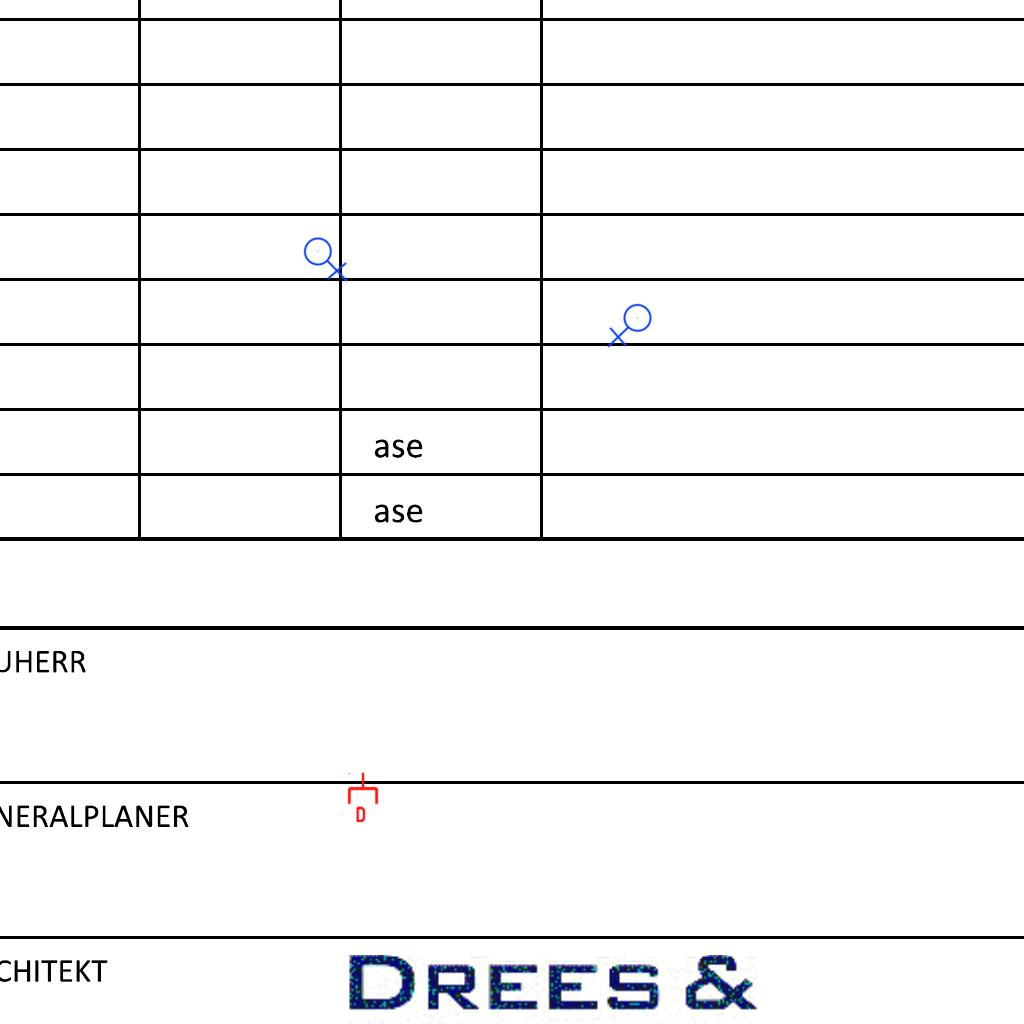Datenanschluss_einfach: (346, 772, 380, 822)
Elektroanschluss_allgemein_230V_Geraeteanschlussdose_230V: (607, 303, 656, 350), (303, 233, 350, 282)
